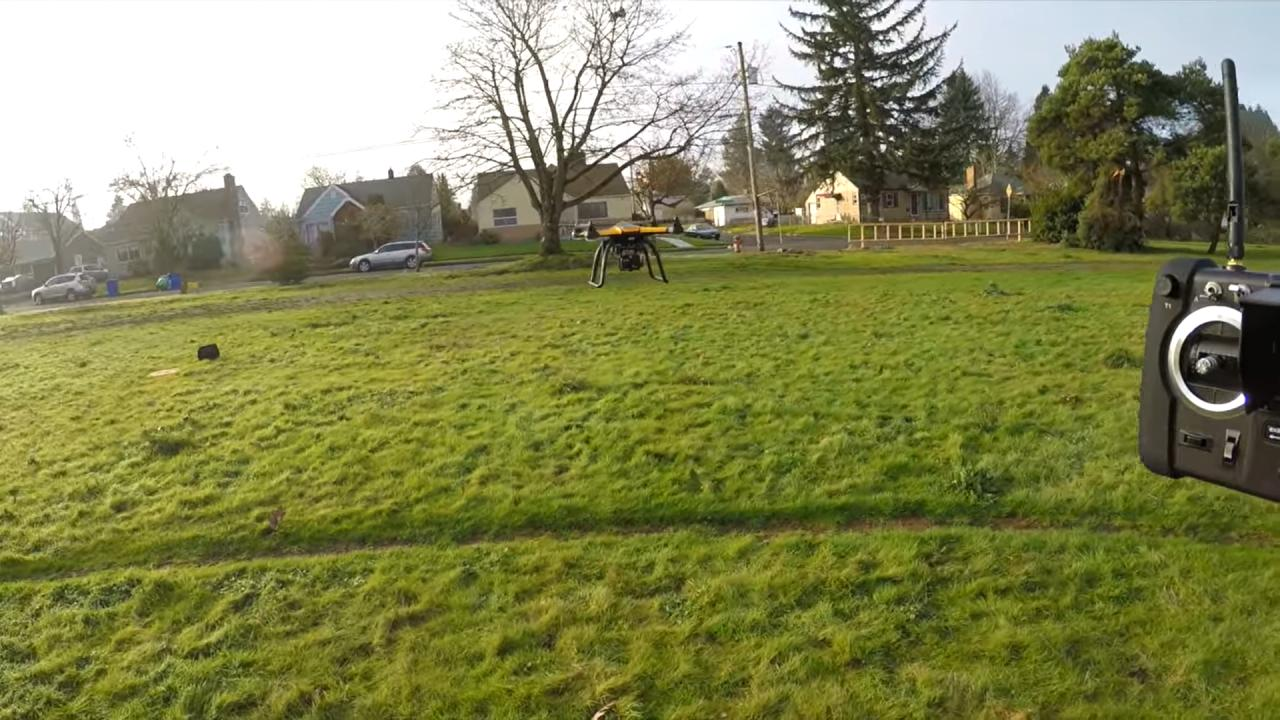Drone: (548, 207, 708, 294)
